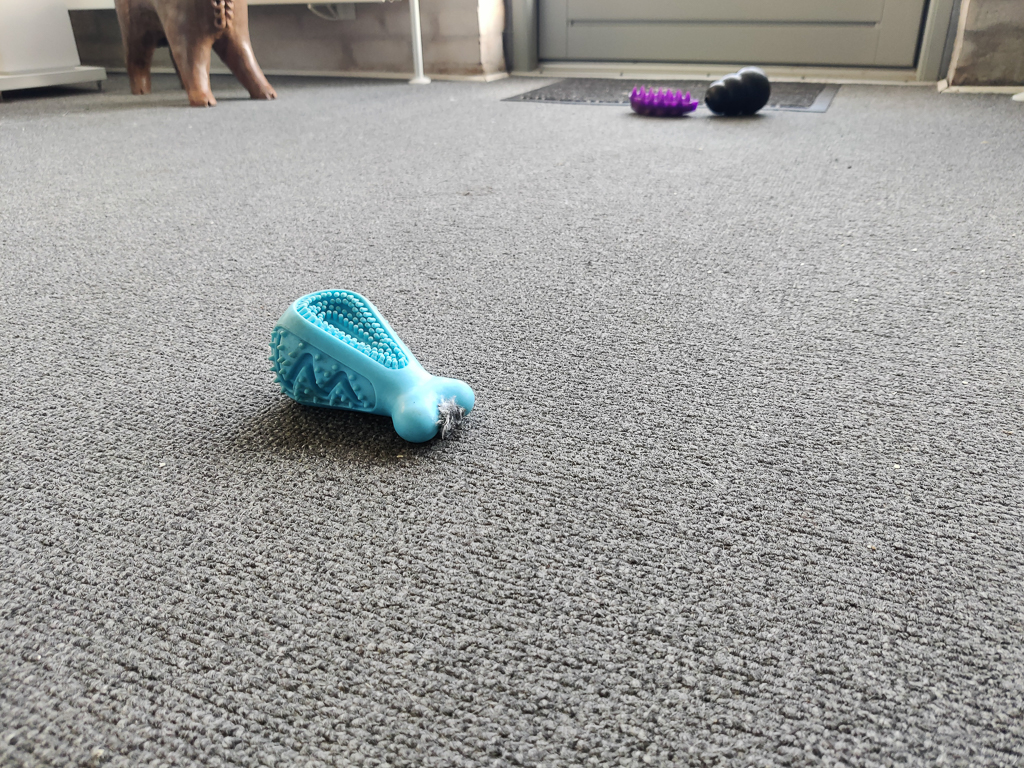Cattle: (100, 0, 300, 115)
